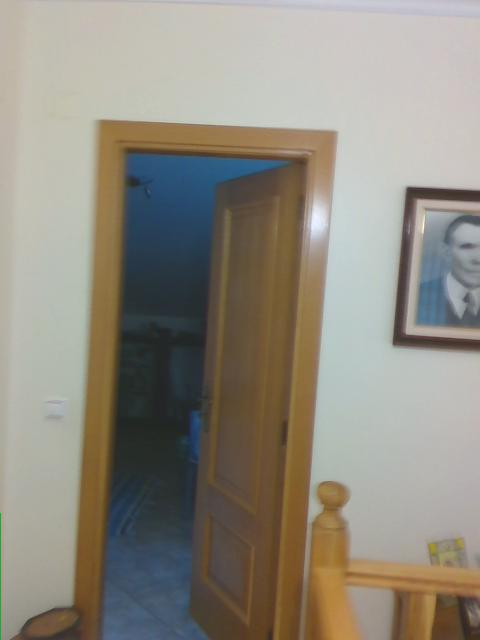semi_door: (73, 118, 340, 639)
